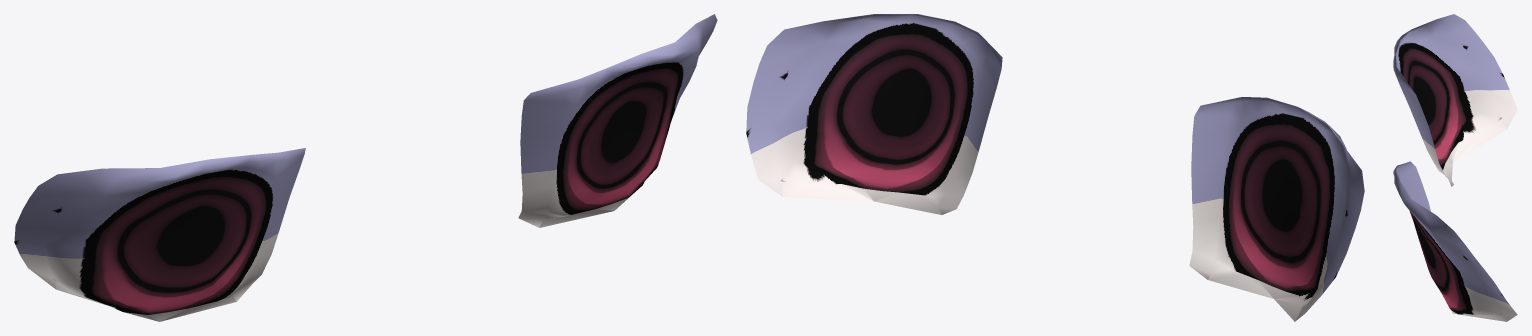
Rendered from eyes red 1.fbx.
The picture shows the model from 3 angles, left to right: view 1: azimuth 30°, elevation 25°; view 2: azimuth 150°, elevation 25°; view 3: azimuth 270°, elevation 25°; orthographic projection. The views are drawn at different scales.
Parts seen in each view (by area): view 1: カスタム少女_mesh; view 2: カスタム少女_mesh; view 3: カスタム少女_mesh.
Boxes of the visible parts, x1,y1,x2,y2 form: カスタム少女_mesh: (14, 14, 717, 321); カスタム少女_mesh: (746, 14, 1364, 321); カスタム少女_mesh: (1393, 14, 1517, 321).
Bounding box in the file's own units: 14.62 × 3.84 × 3.41.
Materials: 1 (1 with a texture image).
